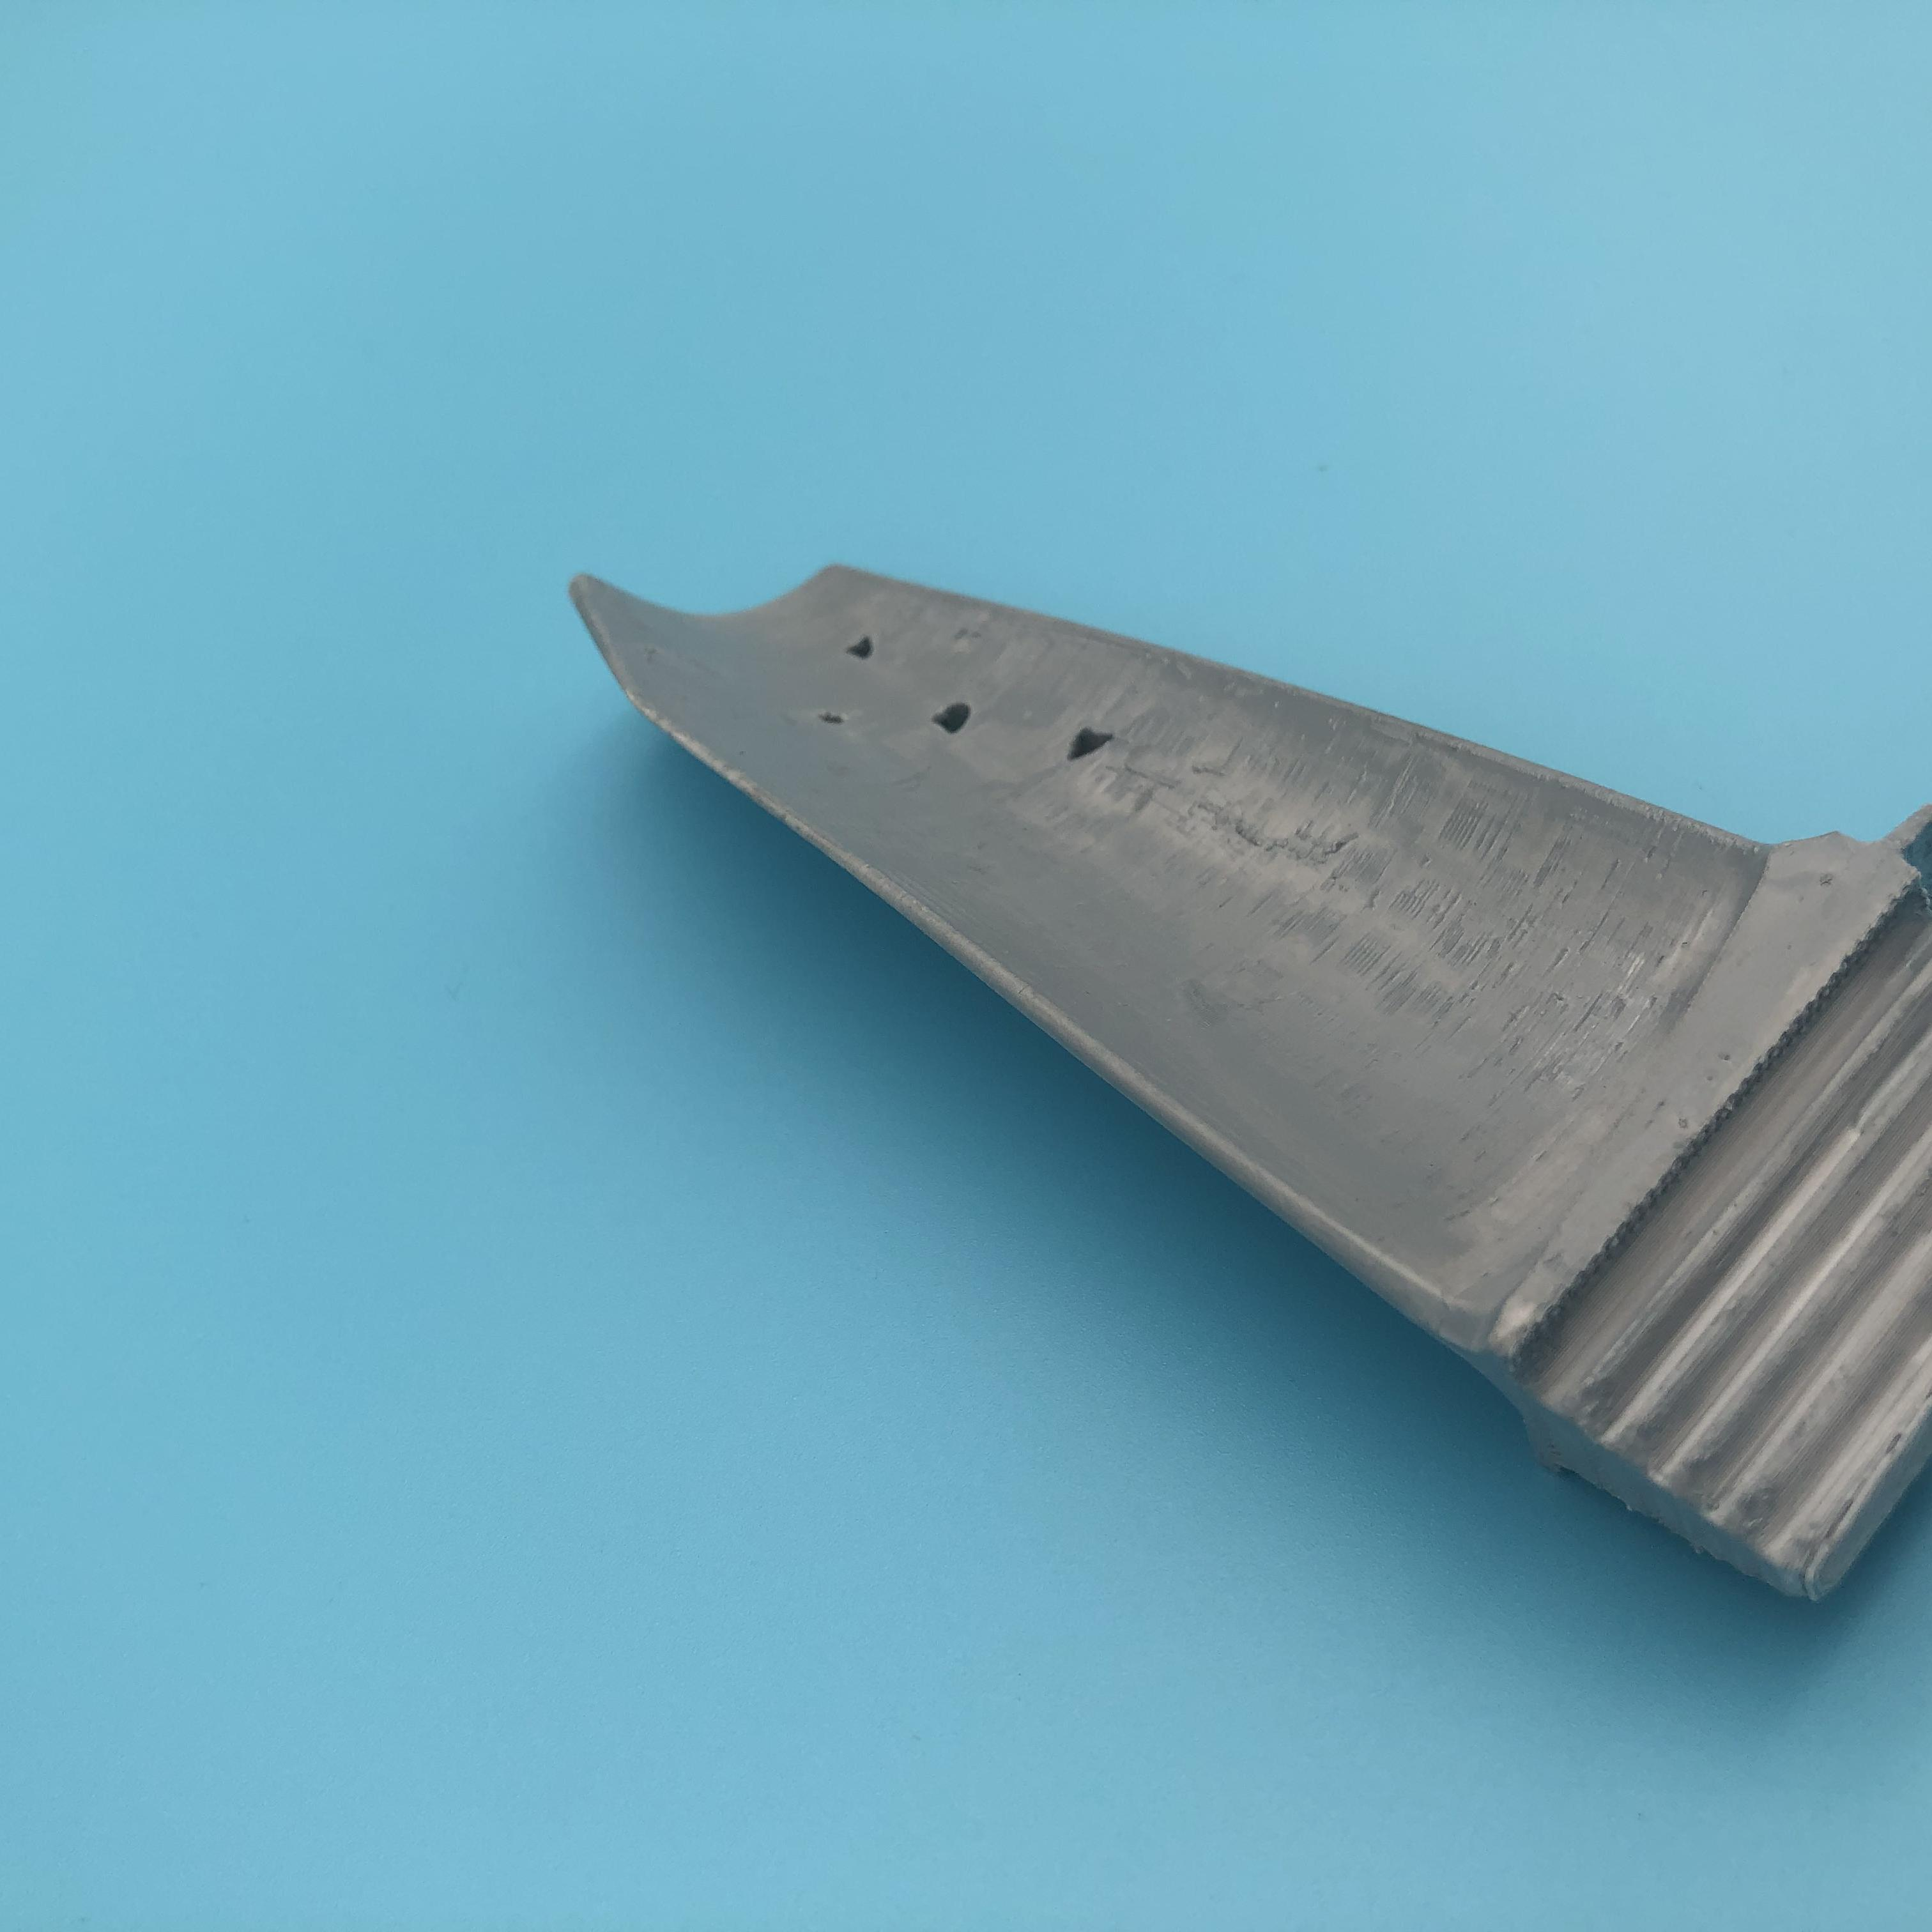breakdown: (824, 639, 1109, 770)
